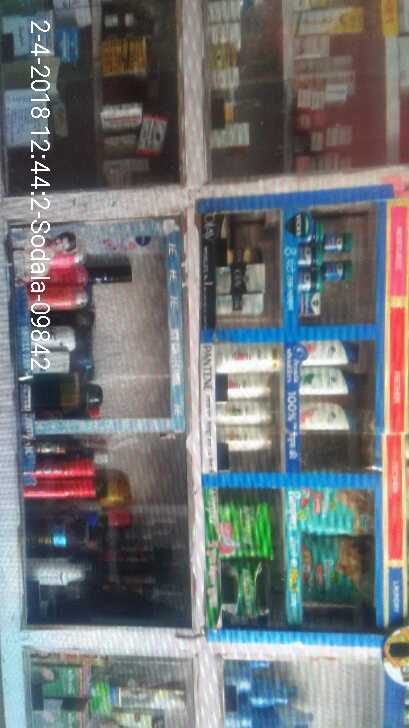vicks: (293, 214, 352, 316)
